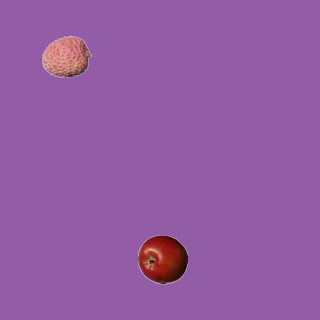Apple Braeburn: (137, 234, 187, 284)
Lychee: (41, 31, 91, 81)
